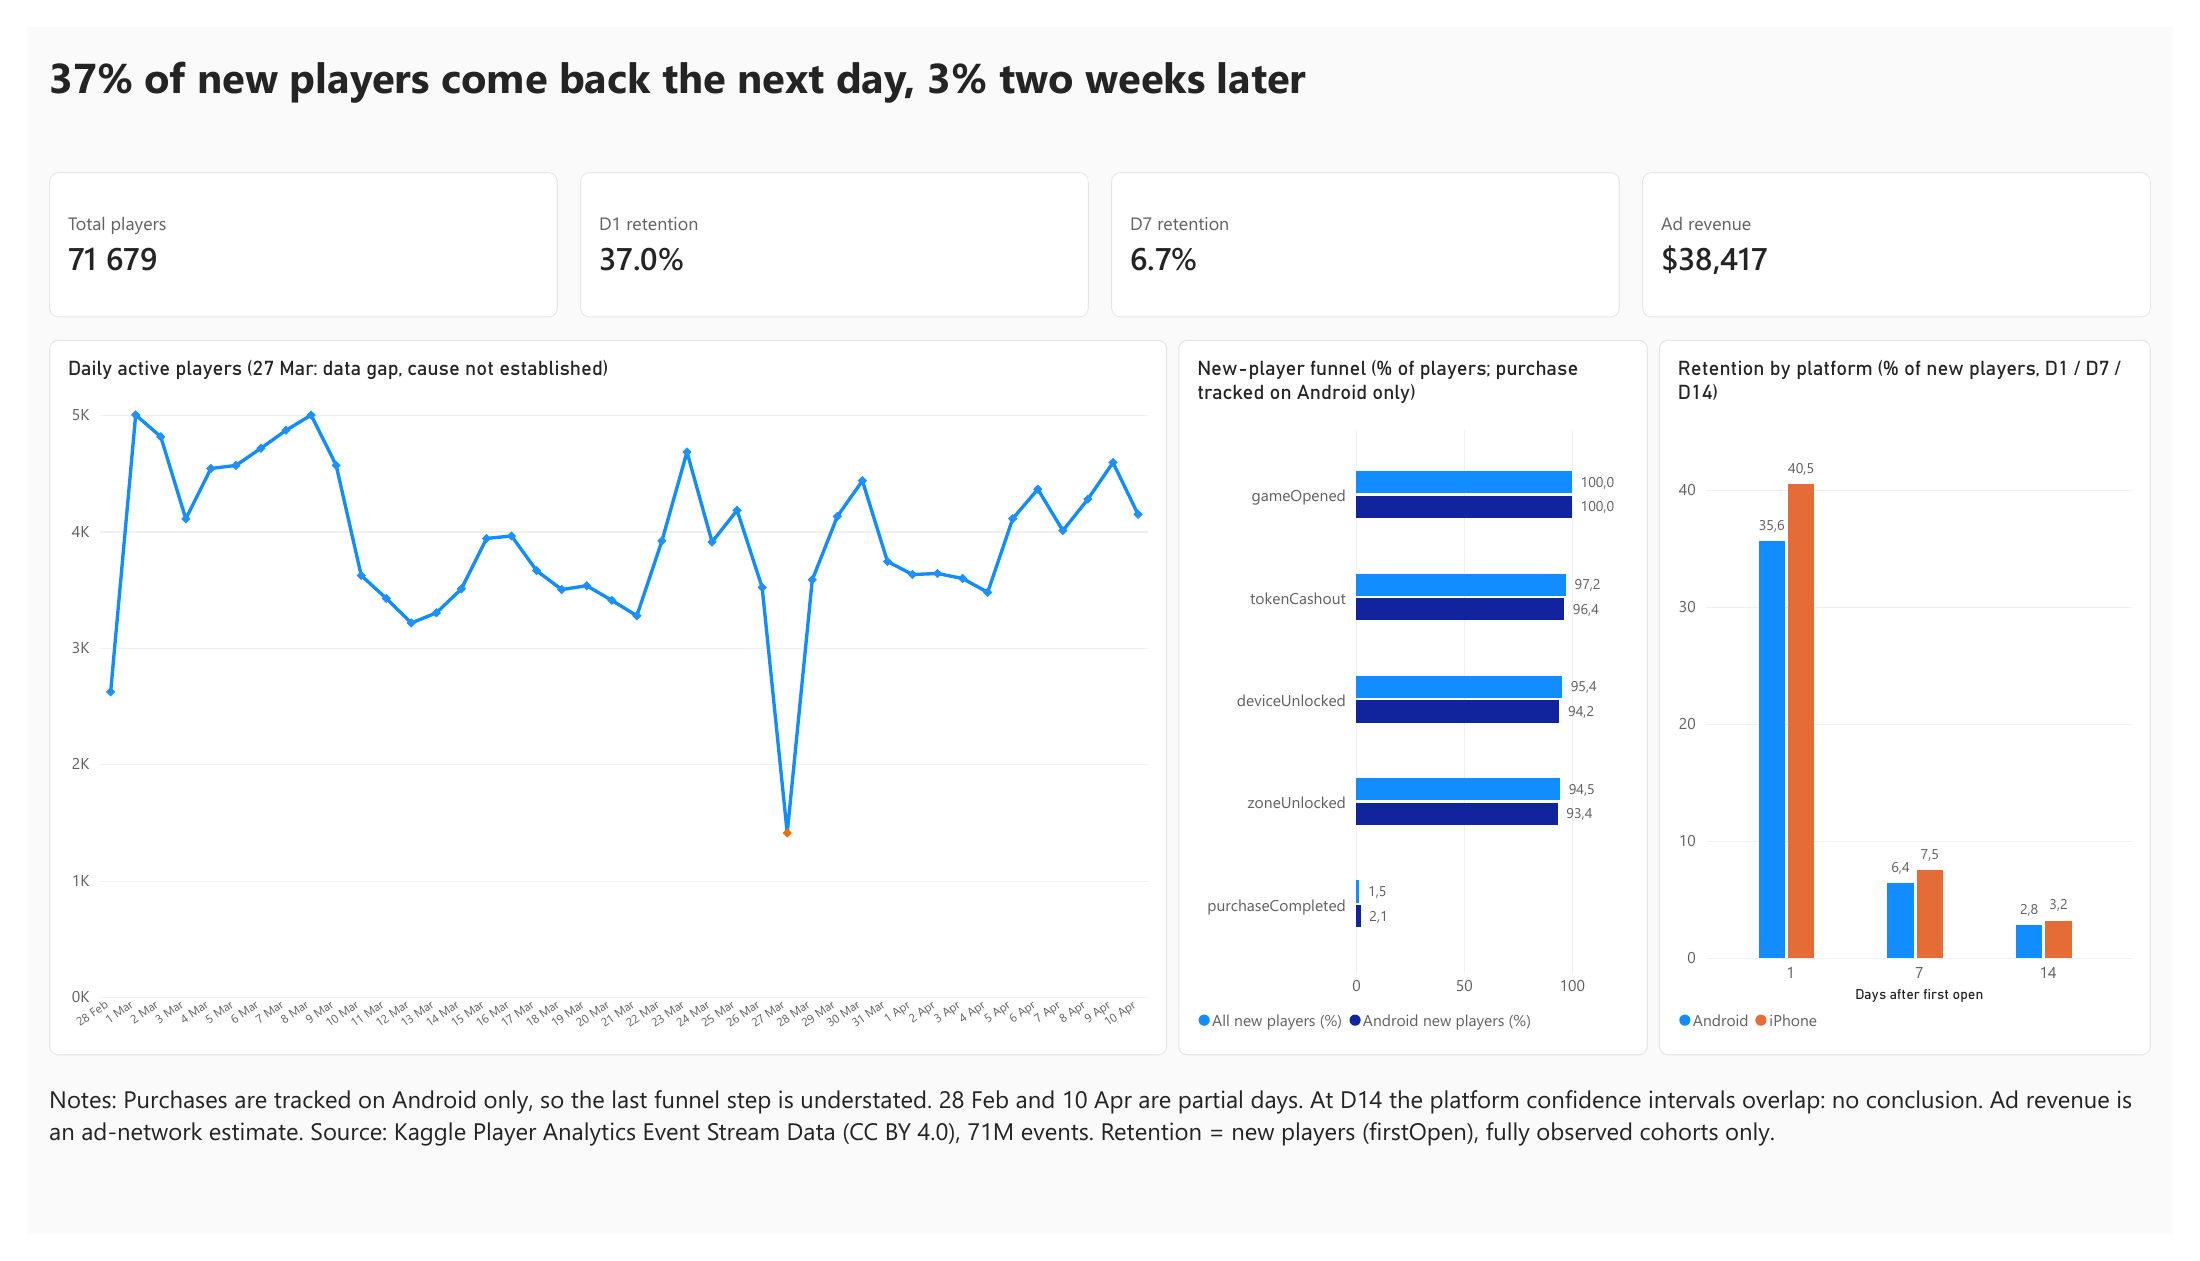

Layout of this report page (visuals, bound fields, positions):
{"tool":"powerbi","page":{"name":"Overview","canvas":[1920,1080],"ordinal":0},"visuals":[{"type":"textbox","box":[20,20,1880,90],"z":0},{"type":"cardVisual","fields":{"Data":["kpis.Total players"]},"box":[20,130,455,130],"z":1000},{"type":"cardVisual","fields":{"Data":["daily.D1 retention"]},"box":[495,130,455,130],"z":2000},{"type":"cardVisual","fields":{"Data":["daily.D7 retention"]},"box":[970,130,455,130],"z":3000},{"type":"cardVisual","fields":{"Data":["daily.Ad revenue"]},"box":[1445,130,455,130],"z":3001},{"type":"lineChart","title":"Daily active players (27 Mar: data gap, cause not established)","fields":{"Category":["daily.day_label"],"Y":["Sum(daily.active_players)"]},"box":[20,280,1000,640],"z":3002},{"type":"clusteredBarChart","title":"New-player funnel (% of players; purchase tracked on Android only)\t","fields":{"Category":["funnel_new_players.event"],"Y":["Sum(funnel_new_players.pct_of_first)","Sum(funnel_new_players.pct_of_first_android)"]},"box":[1030,280,420,640],"z":3003},{"type":"clusteredColumnChart","title":"Retention by platform (% of new players, D1 / D7 / D14)","fields":{"Category":["retention_segments.day_n"],"Series":["retention_segments.segment"],"Y":["Sum(retention_segments.pct)"]},"box":[1460,280,440,640],"z":3004},{"type":"textbox","box":[20,945,1880,110],"z":3005}]}

Visuals, with their boxes in screenshot pixels (x1, y1, x2, y2), scaled from the page's 1920x1080 canvas onto the 2200x1261 screenshot:
textbox: region(23, 23, 2177, 128)
cardVisual - kpis.Total players: region(23, 152, 544, 304)
cardVisual - daily.D1 retention: region(567, 152, 1089, 304)
cardVisual - daily.D7 retention: region(1111, 152, 1633, 304)
cardVisual - daily.Ad revenue: region(1656, 152, 2177, 304)
"Daily active players (27 Mar: data gap, cause not established)" lineChart: region(23, 327, 1169, 1074)
"New-player funnel (% of players; purchase tracked on Android only)	" clusteredBarChart: region(1180, 327, 1661, 1074)
"Retention by platform (% of new players, D1 / D7 / D14)" clusteredColumnChart: region(1673, 327, 2177, 1074)
textbox: region(23, 1103, 2177, 1232)
